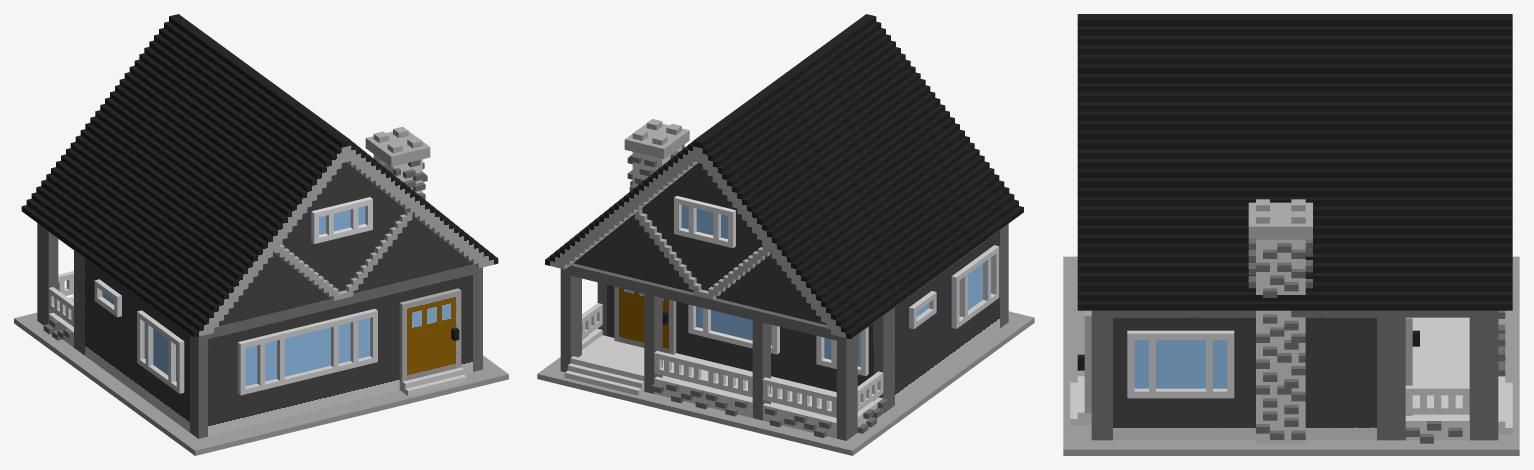
File: obj_house3a.fbx
3 renders of one model, left to right at view 1: azimuth 30°, elevation 25°; view 2: azimuth 150°, elevation 25°; view 3: azimuth 270°, elevation 25°, orthographic. The views are drawn at different scales.
Visible parts, largest first — view 1: obj_house3a; view 2: obj_house3a; view 3: obj_house3a.
Boxes of the visible parts, x1,y1,x2,y2 form: obj_house3a: (14,14,508,455); obj_house3a: (537,14,1034,455); obj_house3a: (1063,14,1519,455).
Bounding box in the file's own units: 6.4 × 6.4 × 5.3.
1 material, 1 textured.
